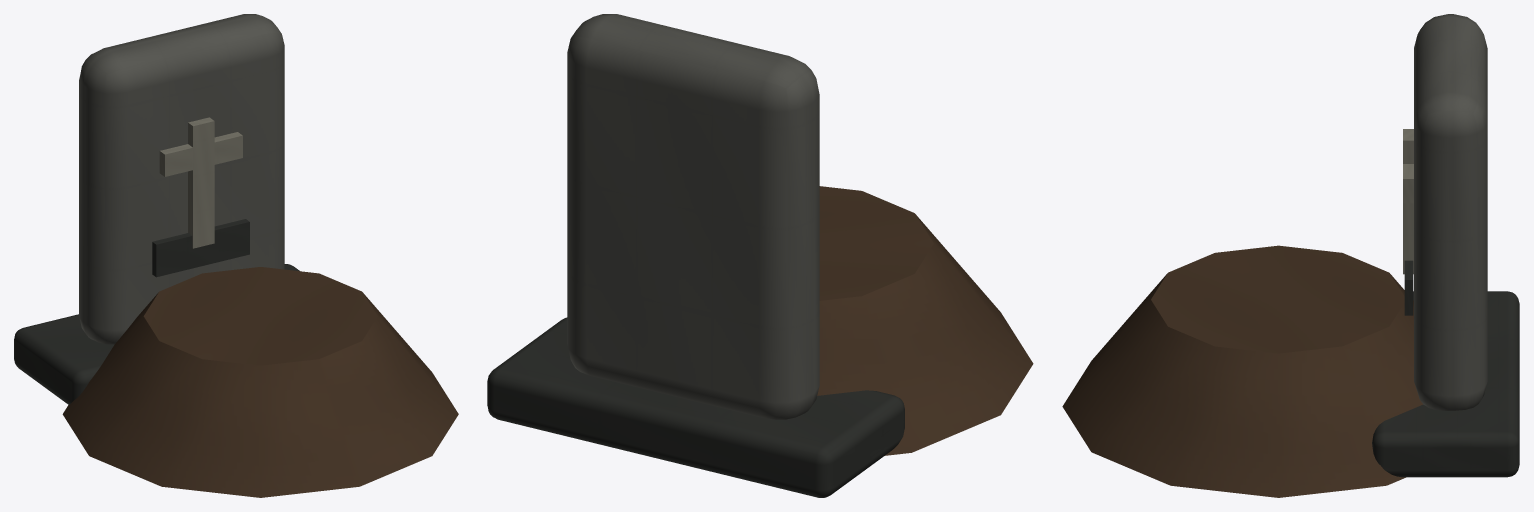
Rendered from sk-grave.glb.
3 renders of one model, left to right at view 1: azimuth 30°, elevation 25°; view 2: azimuth 150°, elevation 25°; view 3: azimuth 270°, elevation 25°, orthographic. The views are drawn at different scales.
Parts seen in each view (by area): view 1: grave-mound, grave-headstone, settlement:grave-static-stone (×2); view 2: grave-headstone, grave-mound, settlement:grave-static-stone; view 3: grave-mound, grave-headstone, settlement:grave-static-stone (×2).
Boxes of the visible parts, box(x1,y1,x2,y2) form: grave-mound: box(62, 267, 458, 497); grave-headstone: box(79, 14, 284, 344); settlement:grave-static-stone (×2): box(14, 117, 299, 404); grave-headstone: box(567, 14, 819, 419); grave-mound: box(817, 186, 1033, 455); settlement:grave-static-stone: box(487, 317, 904, 497); grave-mound: box(1062, 245, 1422, 497); grave-headstone: box(1414, 14, 1487, 410); settlement:grave-static-stone (×2): box(1372, 129, 1519, 477).
Size of the model in its own units: 0.88 by 0.79 by 0.93.
Materials: 4 (4 with a texture image).
